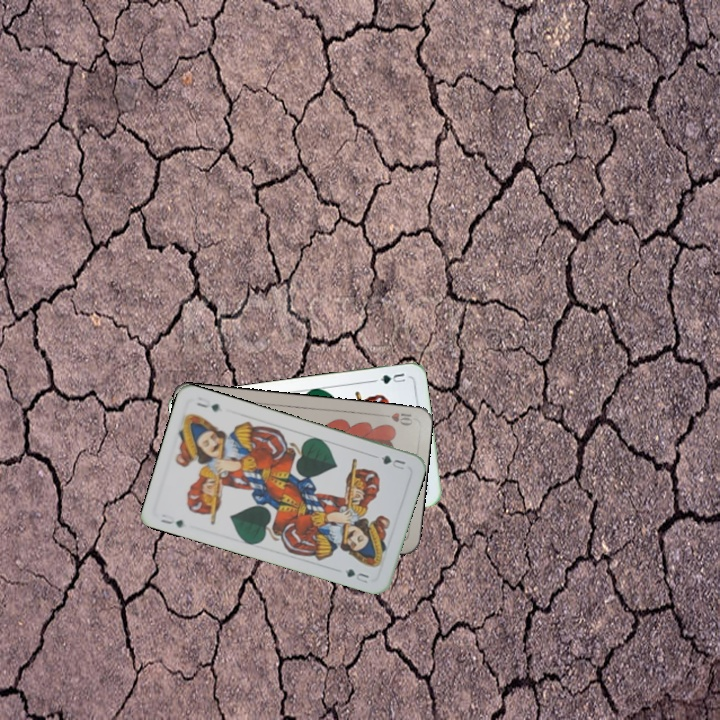GU: (370, 451, 408, 472), (376, 369, 408, 387), (157, 515, 186, 530)
H10: (376, 408, 415, 429)
